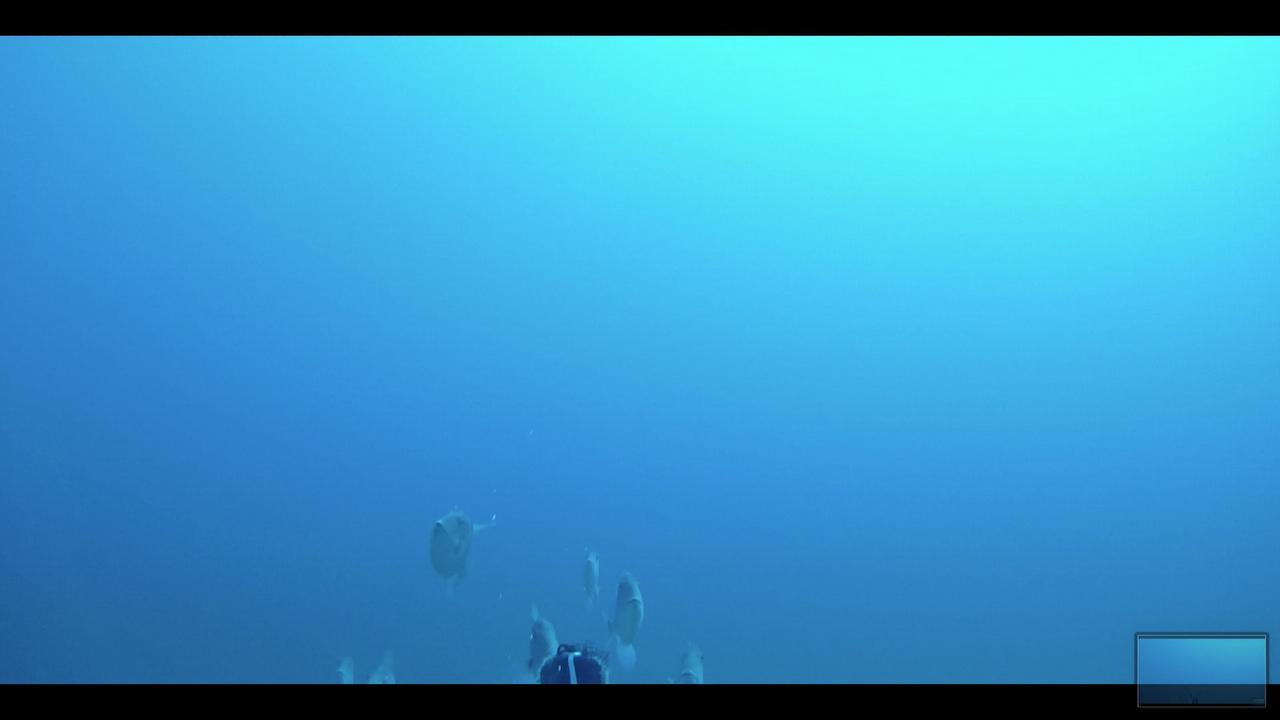balistes: (429, 501, 494, 607), (596, 568, 648, 671), (661, 646, 708, 682), (576, 544, 602, 603)
